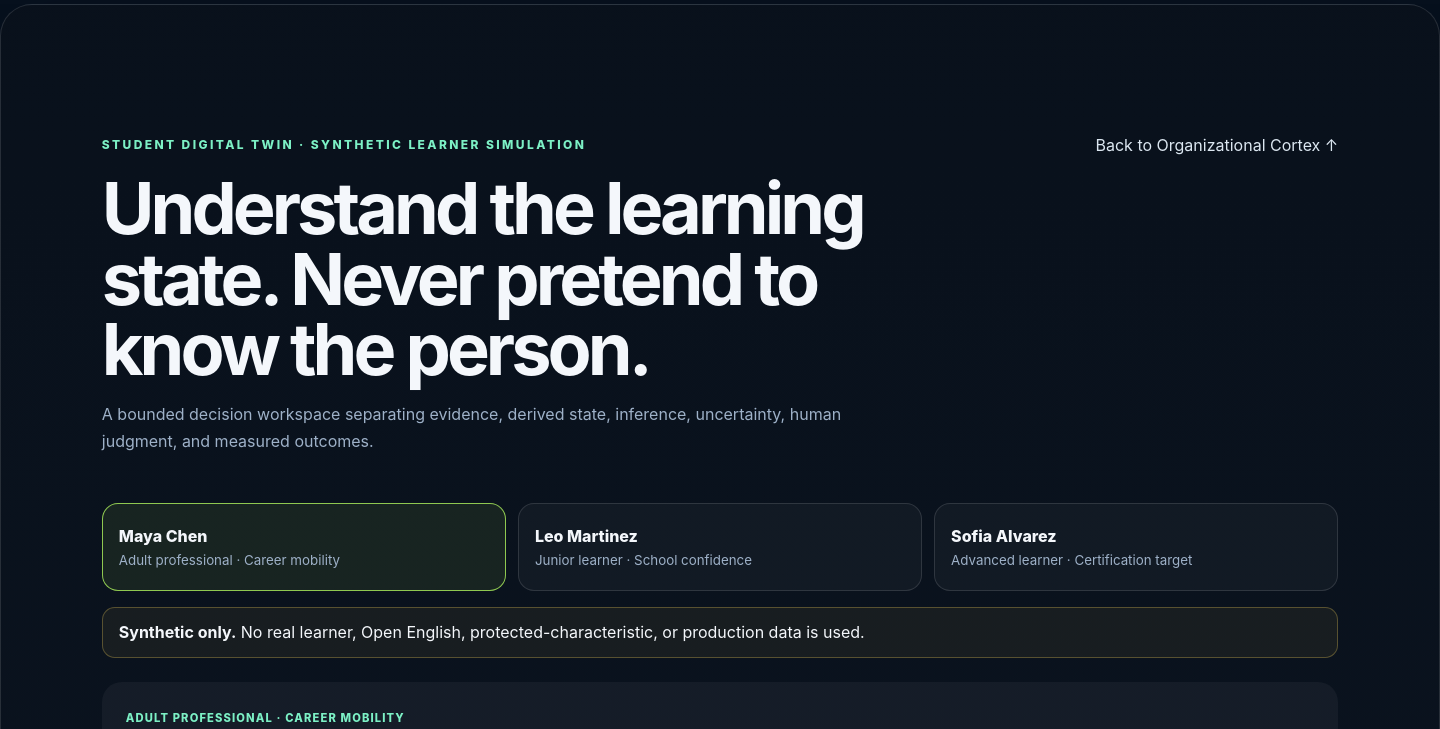
Scenario: Student Digital Twin workspace › switches scenarios and exposes a scenario-specific important unknown
Click the tab "Leo Martinez Junior learner · School confidence".
click(586, 536)  # box left=518, top=503, right=922, bottom=591
(page scrolled)
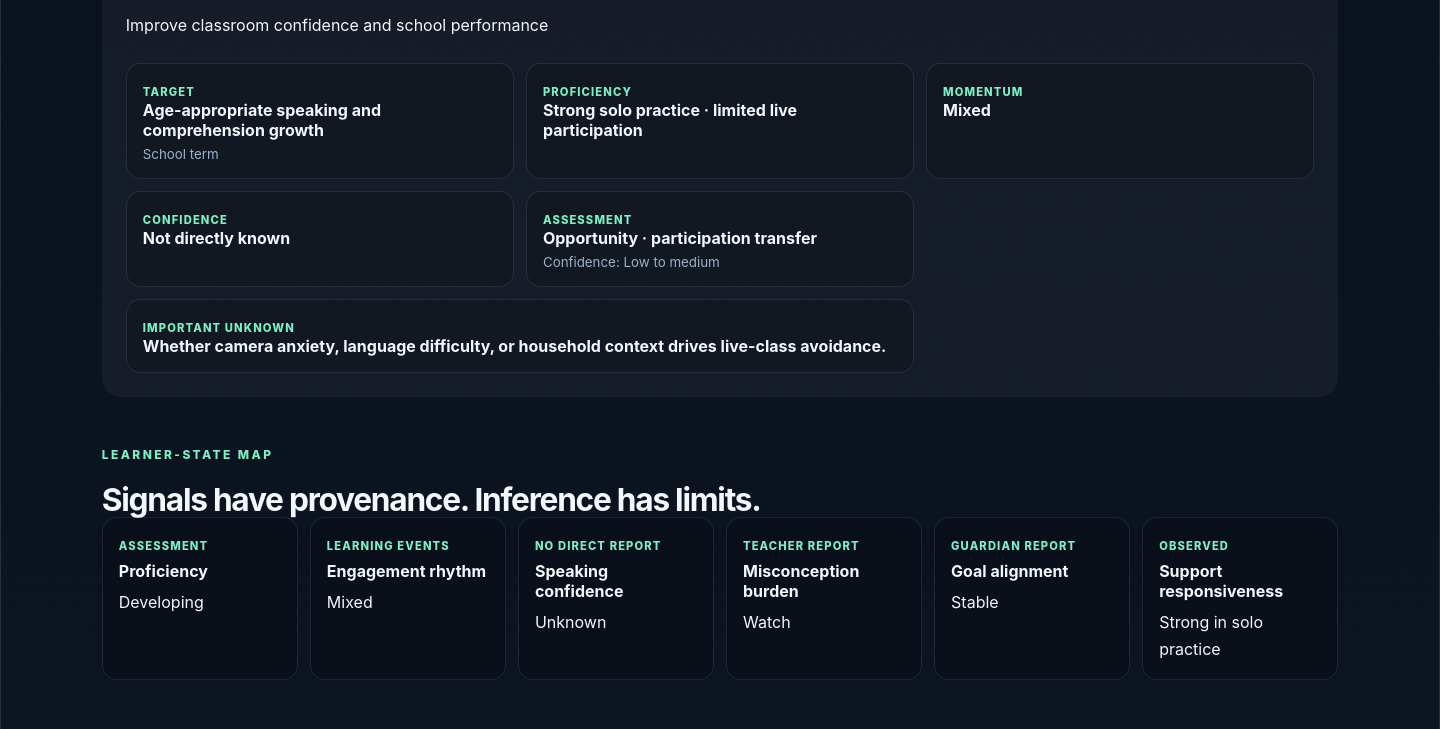
Expected: the text "camera anxiety, language difficulty, or household context" is shown, left=143, top=336, right=886, bottom=356
